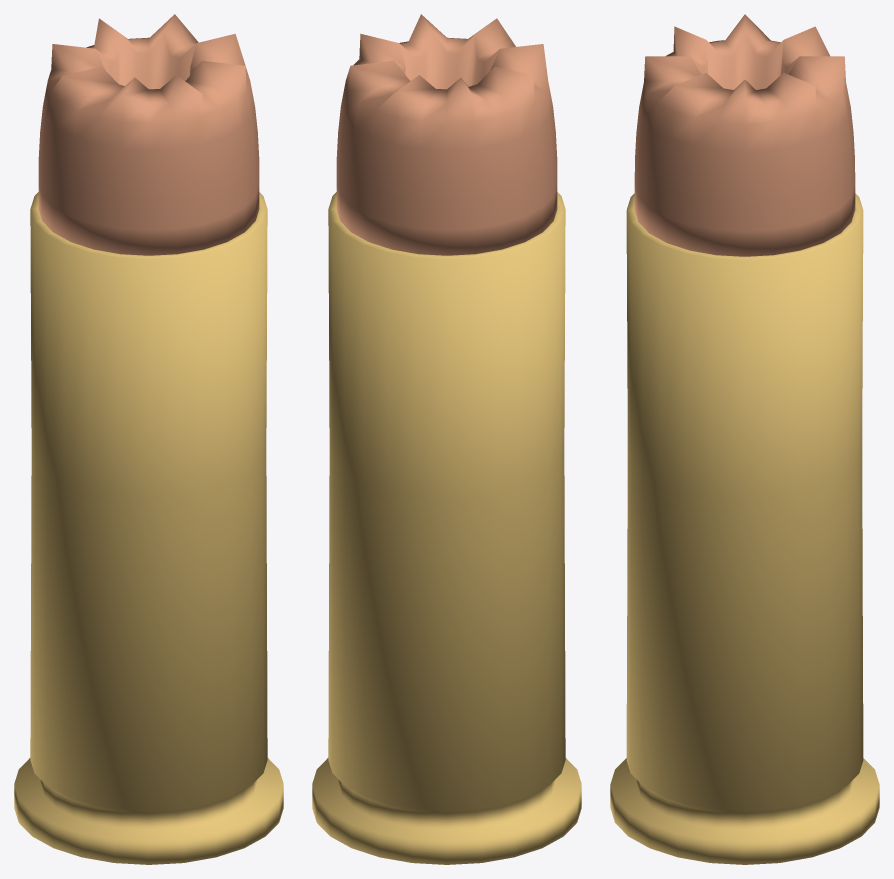
Rendered from 44mag_fl.glb.
3 views of the same model, side by side, from view 1: azimuth 30°, elevation 25°; view 2: azimuth 150°, elevation 25°; view 3: azimuth 270°, elevation 25° (orthographic).
Parts seen in each view (by area): view 1: vaina, bala_flor; view 2: vaina, bala_flor; view 3: vaina, bala_flor.
Boxes of the visible parts, x1=… form: vaina: x1=14, y1=192, x2=283, y2=864; bala_flor: x1=38, y1=14, x2=259, y2=255; vaina: x1=312, y1=192, x2=581, y2=864; bala_flor: x1=336, y1=14, x2=557, y2=255; vaina: x1=610, y1=193, x2=879, y2=864; bala_flor: x1=634, y1=14, x2=855, y2=256.
Bounding box in the file's own units: 0.0133 × 0.041 × 0.0133.
